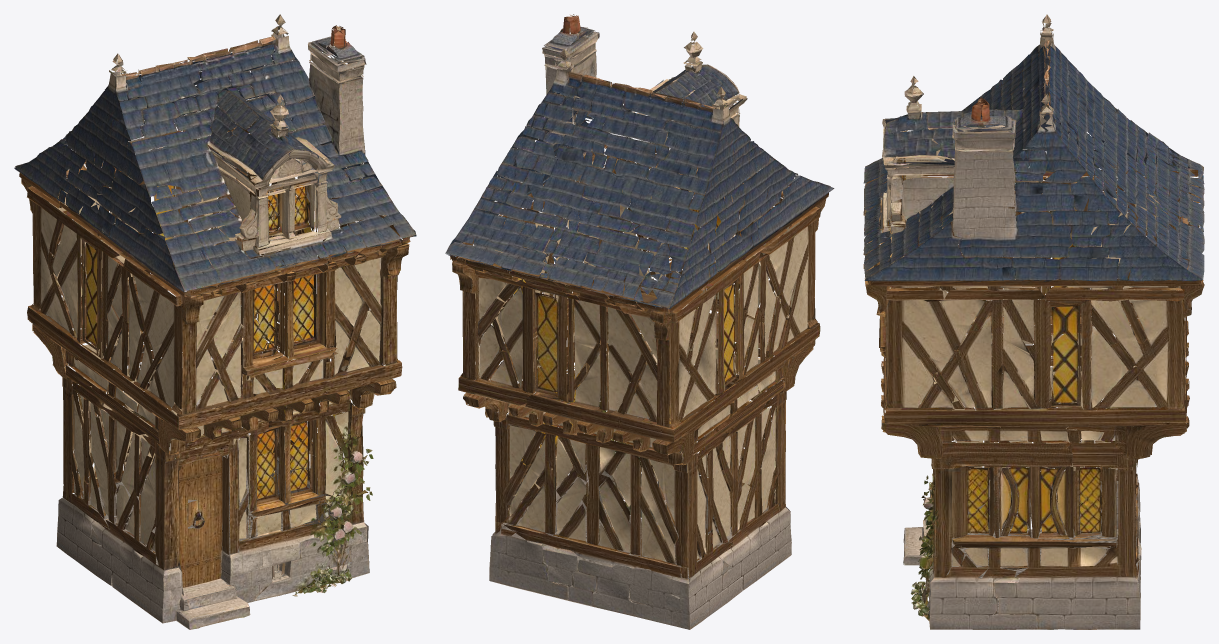
Rendered from maison1.glb.
3 views of the same model, side by side, from view 1: azimuth 30°, elevation 25°; view 2: azimuth 150°, elevation 25°; view 3: azimuth 270°, elevation 25° (orthographic). The views are drawn at different scales.
Parts seen in each view (by area): view 1: maison1; view 2: maison1; view 3: maison1.
Boxes of the visible parts, bbox=[...] form: maison1: bbox=[14, 14, 416, 629]; maison1: bbox=[445, 14, 834, 629]; maison1: bbox=[863, 14, 1204, 629].
Size of the model in its own units: 7.58 by 16.44 by 9.63.
Materials: 1 (1 with a texture image).
